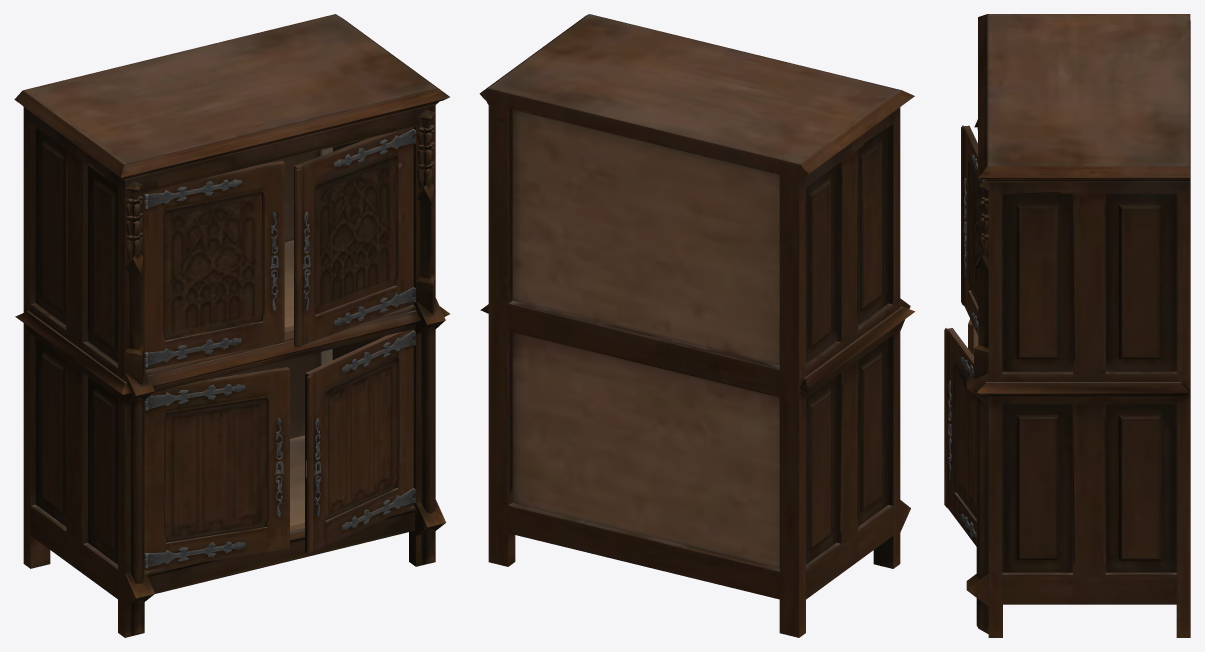
Rendered from GothicCabinet_01.glb.
The picture shows the model from 3 angles, left to right: view 1: azimuth 30°, elevation 25°; view 2: azimuth 150°, elevation 25°; view 3: azimuth 270°, elevation 25°; orthographic projection.
Visible parts, largest first — view 1: GothicCabinet_01_cabinet, GothicCabinet_01_door3, GothicCabinet_01_door1, GothicCabinet_01_door2, GothicCabinet_01_door4; view 2: GothicCabinet_01_cabinet; view 3: GothicCabinet_01_cabinet, GothicCabinet_01_door4, GothicCabinet_01_door2.
Boxes of the visible parts, bbox=[...] form: GothicCabinet_01_cabinet: bbox=[14, 14, 449, 637]; GothicCabinet_01_door3: bbox=[144, 367, 289, 571]; GothicCabinet_01_door1: bbox=[144, 160, 284, 369]; GothicCabinet_01_door2: bbox=[294, 127, 415, 347]; GothicCabinet_01_door4: bbox=[305, 329, 415, 554]; GothicCabinet_01_cabinet: bbox=[479, 14, 914, 637]; GothicCabinet_01_cabinet: bbox=[966, 14, 1190, 637]; GothicCabinet_01_door4: bbox=[944, 328, 976, 546]; GothicCabinet_01_door2: bbox=[961, 125, 988, 335].
Bounding box in the file's own units: 1.72 × 2.36 × 1.12.
Materials: 1 (1 with a texture image).
